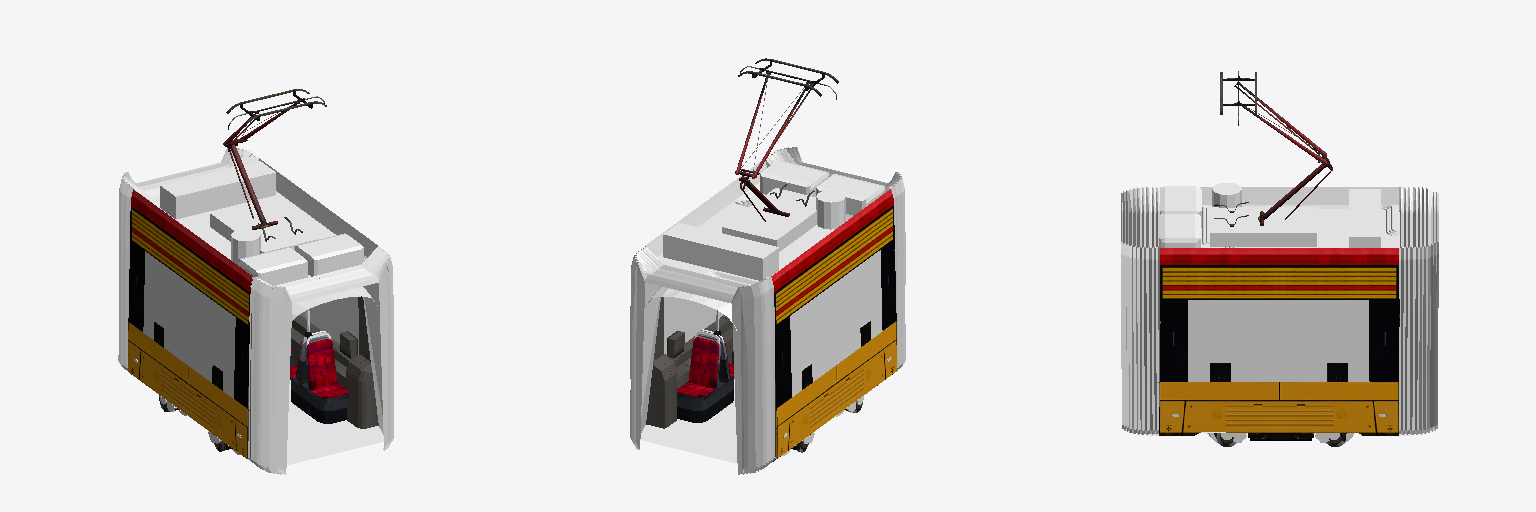
3 views of the same model, side by side, from view 1: azimuth 30°, elevation 25°; view 2: azimuth 150°, elevation 25°; view 3: azimuth 270°, elevation 25° (orthographic).
Visible parts, largest first — view 1: body, salon, okno, pant; view 2: body, salon, okno, pant; view 3: body, okno, pant.
Part boxes in pixels (x1,y1,x2,y2): body: (118,148,393,474); salon: (150,287,383,464); okno: (143,251,358,398); pant: (223,89,326,241); body: (630,147,905,474); salon: (640,286,873,463); okno: (664,250,882,396); pant: (735,58,838,221); body: (1121,183,1438,446); okno: (1188,300,1369,381); pant: (1214,71,1332,226).
Bounding box in the file's own units: 2.54 × 5.92 × 5.06.
Materials: 40 (14 with a texture image).